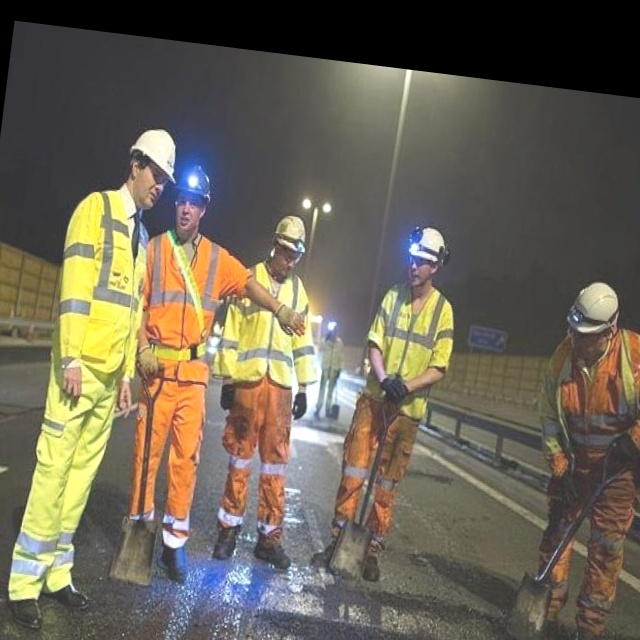Con_Casco: (560, 280, 624, 365), (123, 127, 182, 206)
Con_Chaleco: (48, 197, 156, 377), (130, 229, 222, 377), (217, 264, 310, 391), (362, 282, 454, 410)
